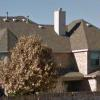Chimney: (47, 4, 70, 43)
